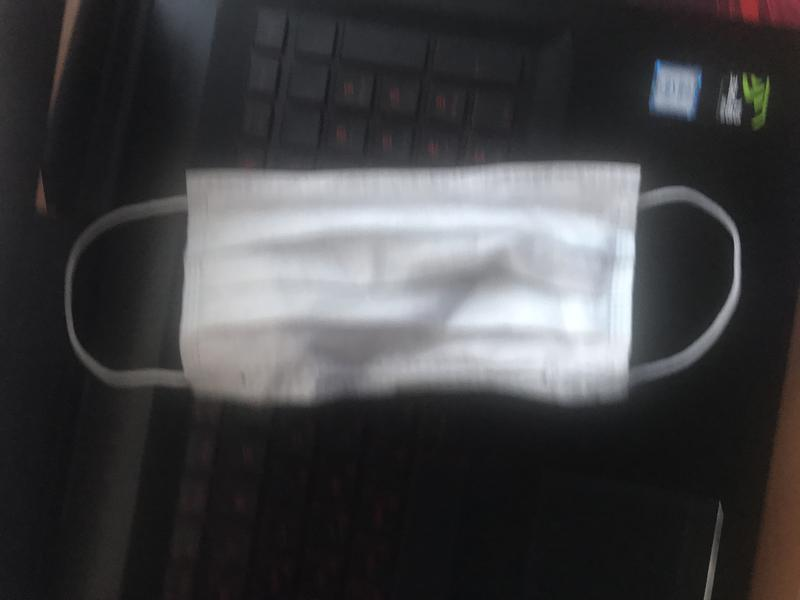medical_mask: (65, 160, 743, 408)
